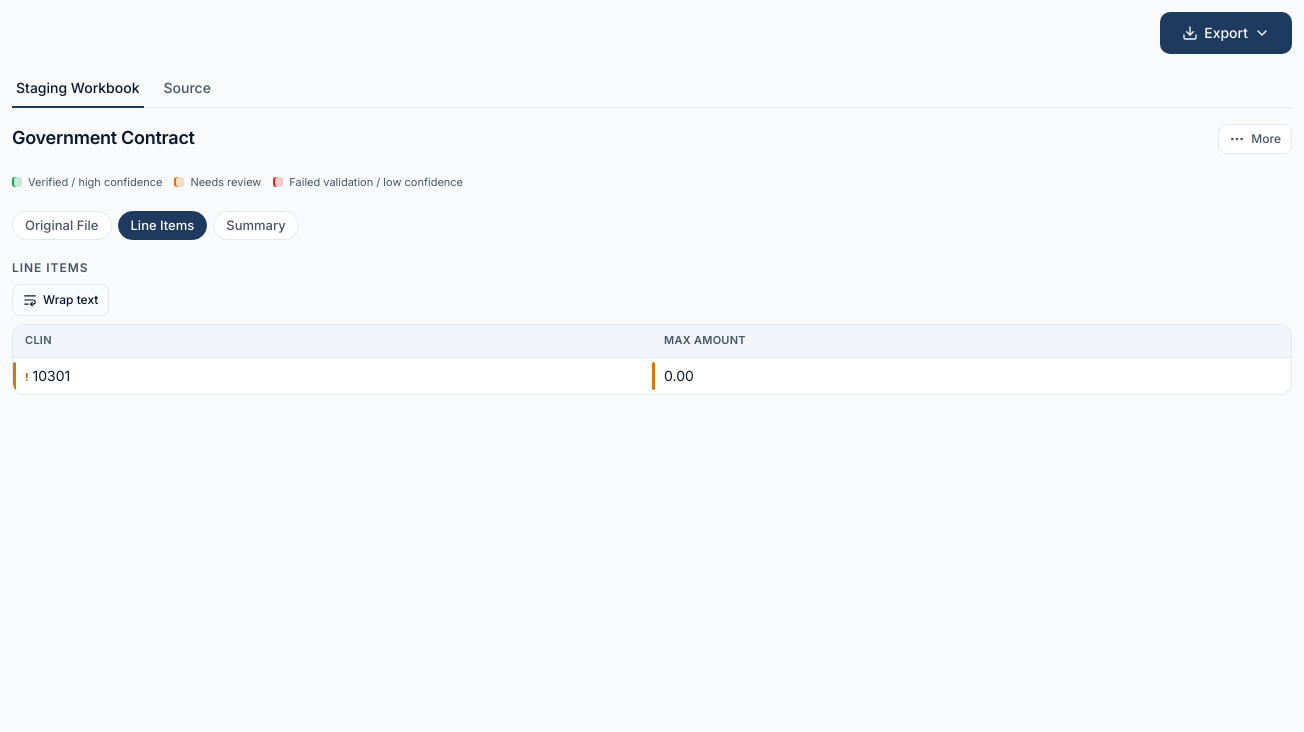
Test: StagingWorkbook rendering › keeps every staged dataset in a collapsed technical view
Click the button "More" at [1255, 139], box [1218, 124, 1292, 154]
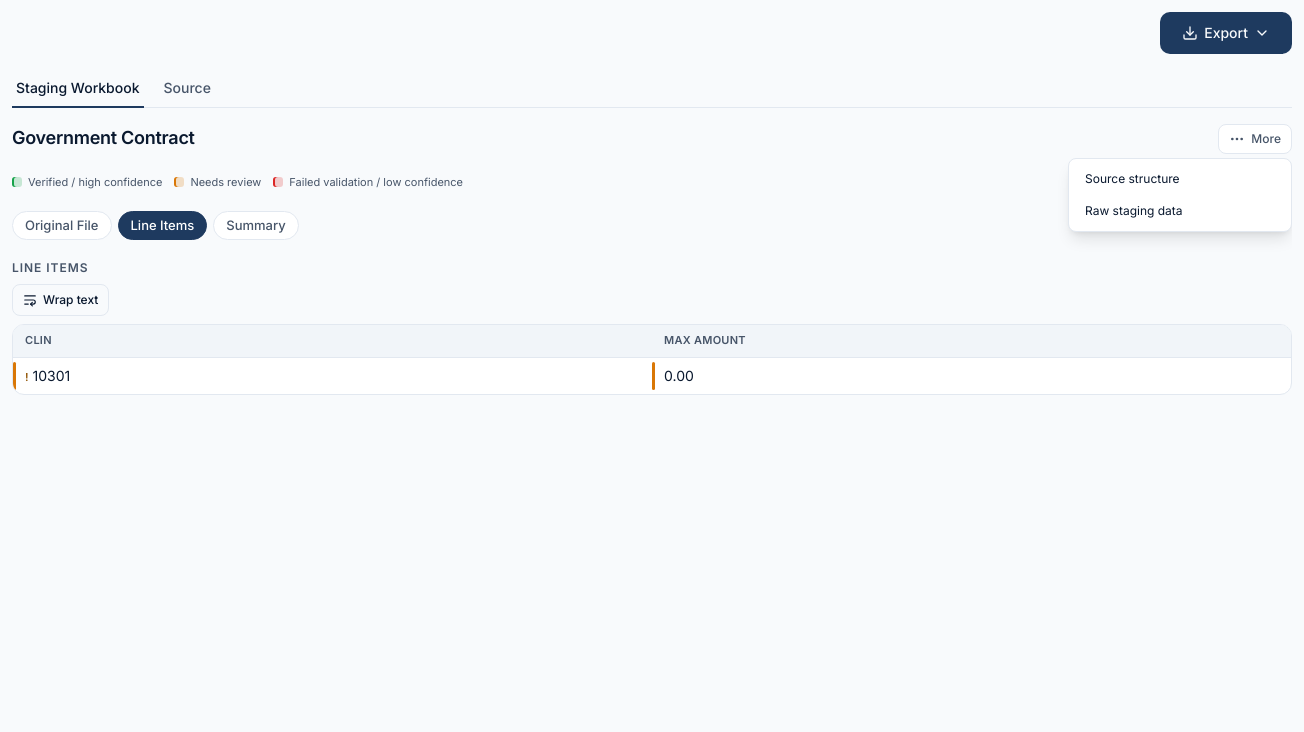
Click the menu item "Raw staging data" at [1180, 211], box [1073, 195, 1287, 227]
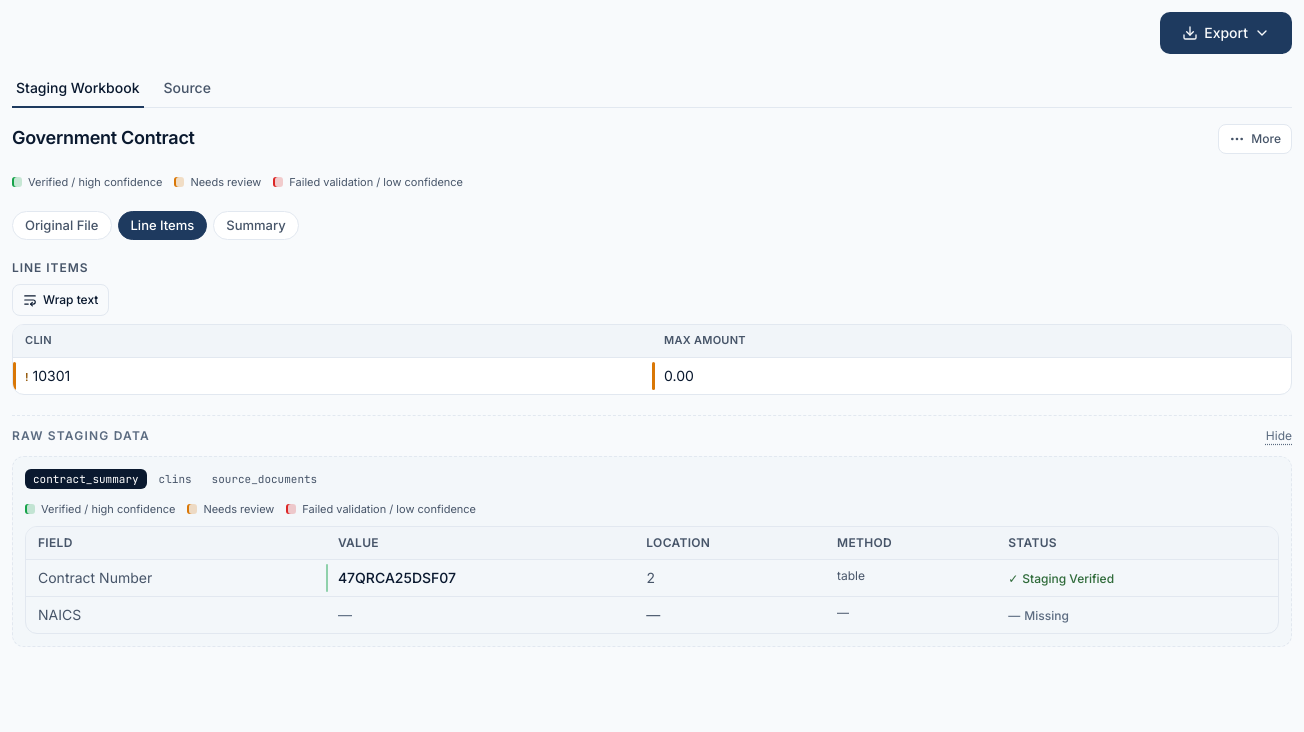
Now the button "contract_summary" is shown, box [25, 469, 147, 489]
Now the button "clins" is shown, box [151, 469, 200, 489]
Now the button "source_documents" is shown, box [204, 469, 325, 489]
